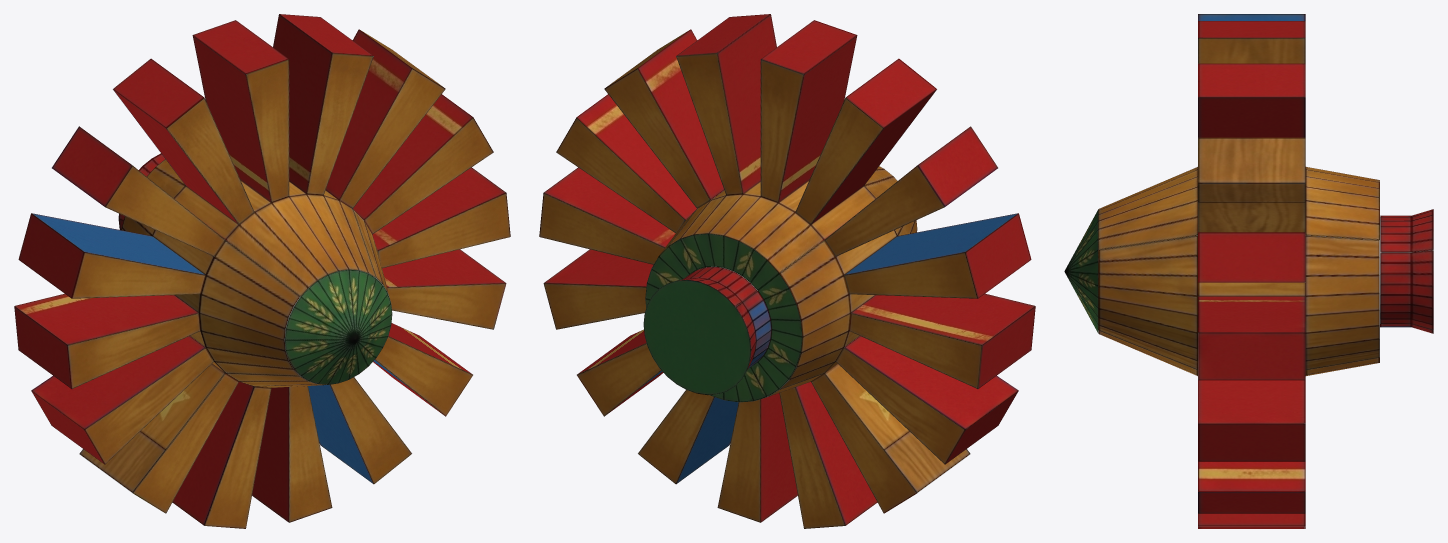
The model's file is spinnerbasemodel.fbx.
The picture shows the model from 3 angles, left to right: view 1: azimuth 30°, elevation 25°; view 2: azimuth 150°, elevation 25°; view 3: azimuth 270°, elevation 25°; orthographic projection.
Visible parts, largest first — view 1: Cylinder; view 2: Cylinder; view 3: Cylinder.
Part boxes in pixels (box(x1,y1,x2,y2)): Cylinder: box(14, 14, 510, 528); Cylinder: box(539, 14, 1035, 528); Cylinder: box(1064, 14, 1433, 528).
Bounding box in the file's own units: 366 × 366 × 262.
1 material, 1 textured.
